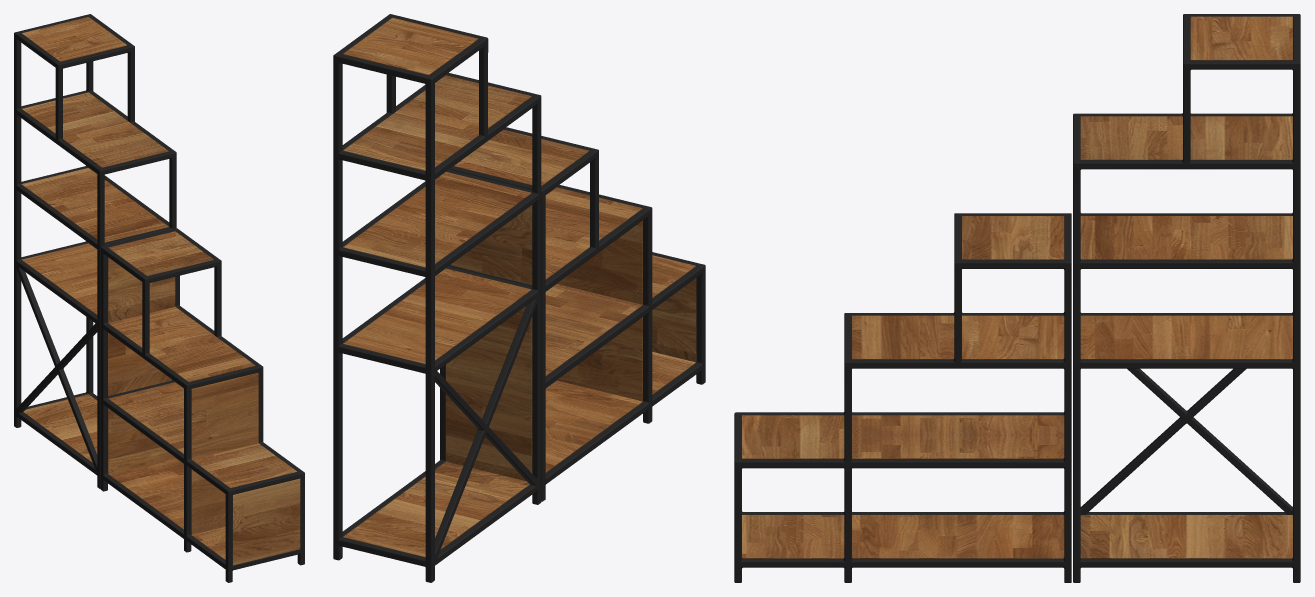
Rendered from shelf1.glb.
The picture shows the model from 3 angles, left to right: view 1: azimuth 30°, elevation 25°; view 2: azimuth 150°, elevation 25°; view 3: azimuth 270°, elevation 25°; orthographic projection. The views are drawn at different scales.
Parts seen in each view (by area): view 1: Cube.013_3, Cube.009_0, Cube.014_1, Cube.012_5, Cube.008_2, Cube.017_4; view 2: Cube.013_3, Cube.012_5, Cube.009_0, Cube.014_1, Cube.008_2, Cube.017_4; view 3: Cube.013_3, Cube.009_0, Cube.012_5, Cube.008_2.
Boxes of the visible parts, box(x1,y1,x2,y2) form: Cube.013_3: box(21, 17, 168, 462); Cube.009_0: box(108, 231, 297, 560); Cube.014_1: box(108, 257, 300, 565); Cube.012_5: box(14, 14, 176, 488); Cube.008_2: box(100, 228, 304, 582); Cube.017_4: box(108, 333, 171, 395); Cube.013_3: box(343, 17, 531, 557); Cube.012_5: box(333, 14, 541, 582); Cube.009_0: box(454, 129, 695, 472); Cube.014_1: box(450, 205, 696, 401); Cube.008_2: box(449, 127, 705, 501); Cube.017_4: box(446, 305, 532, 481); Cube.013_3: box(1080, 16, 1292, 558); Cube.009_0: box(742, 216, 1064, 558); Cube.012_5: box(1073, 14, 1300, 582); Cube.008_2: box(734, 213, 1071, 582).
Bounding box in the file's own units: 0.386 × 1.89 × 1.86.
2 materials, 1 textured.
